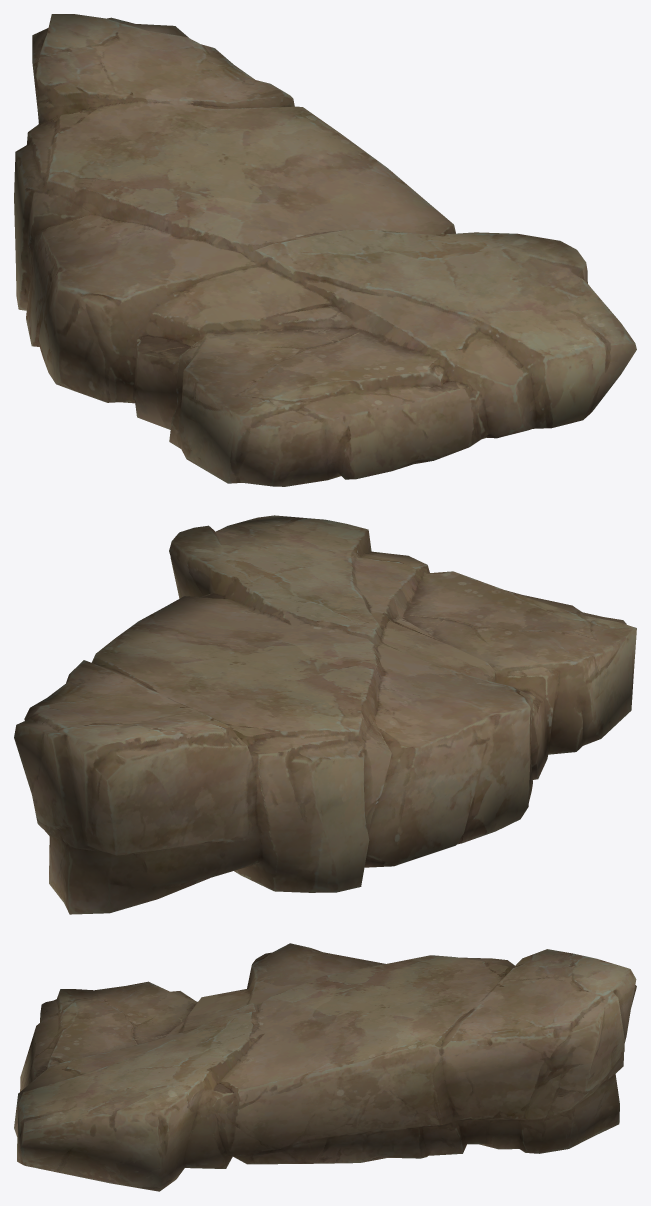
The model's file is Area_Dq_Rock_YXG_Full_Moss_L_03.fbx.
3 views of the same model, one above another, from view 1: azimuth 30°, elevation 25°; view 2: azimuth 150°, elevation 25°; view 3: azimuth 270°, elevation 25° (orthographic). The views are drawn at different scales.
Visible parts, largest first — view 1: Area_Dq_Rock_YXG_Full_Moss_L_03_Lod0; view 2: Area_Dq_Rock_YXG_Full_Moss_L_03_Lod0; view 3: Area_Dq_Rock_YXG_Full_Moss_L_03_Lod0.
Part boxes in pixels (left/top/right/bottom): Area_Dq_Rock_YXG_Full_Moss_L_03_Lod0: left=14, top=14, right=636, bottom=486; Area_Dq_Rock_YXG_Full_Moss_L_03_Lod0: left=14, top=515, right=636, bottom=914; Area_Dq_Rock_YXG_Full_Moss_L_03_Lod0: left=14, top=943, right=636, bottom=1191.
Bounding box in the file's own units: 8.31 × 3.43 × 12.86.
1 material, 1 textured.
